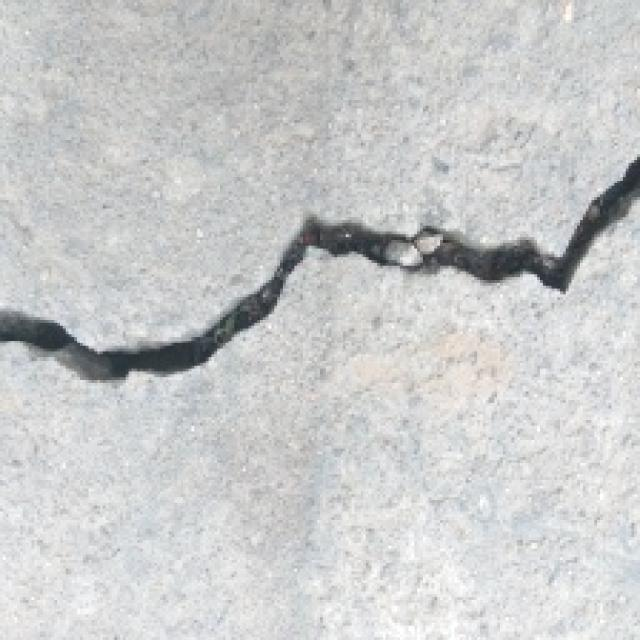crack: (0, 154, 640, 398)
